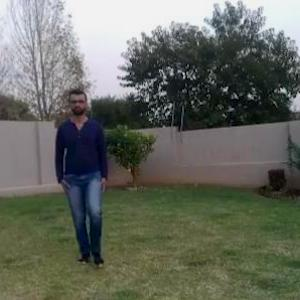follow: (57, 91, 112, 260)
